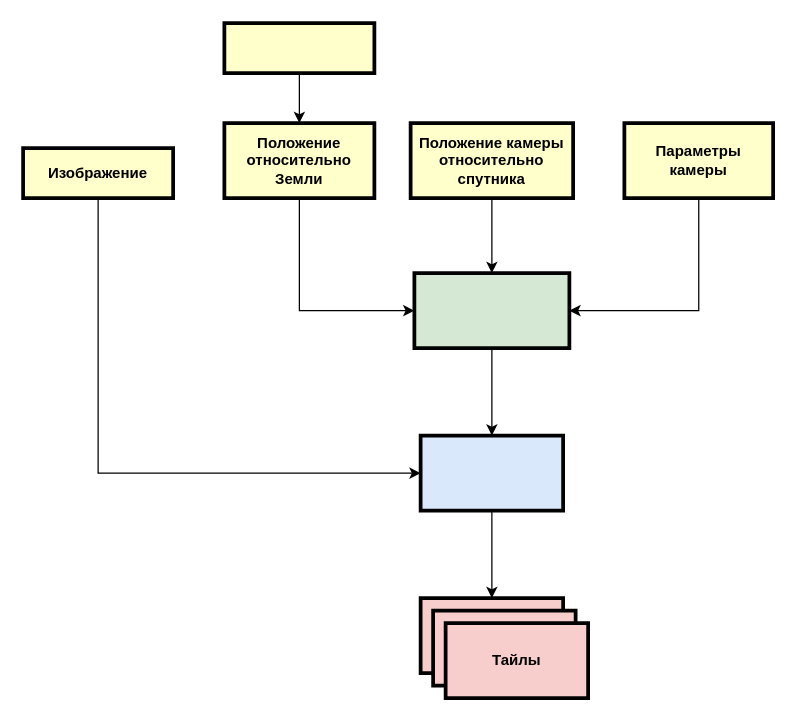
Image size: 796x721. Some labels were removed from this diagram. The centre of each missing label's shape, as x and y in pixels:
"GeoTiff" belongs at point 491,472.
"SGP4" belongs at point 299,47.
"Список контрольных точек" belongs at point 491,310.
